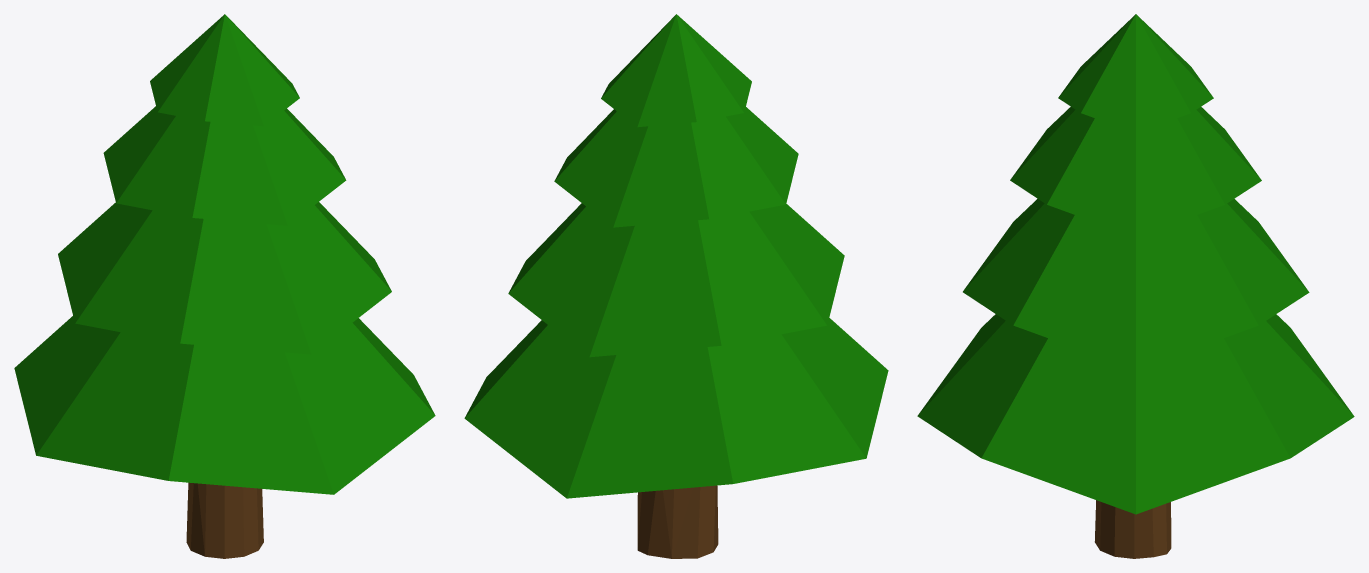
The model's file is christmas-tree.glb.
3 views of the same model, side by side, from view 1: azimuth 30°, elevation 25°; view 2: azimuth 150°, elevation 25°; view 3: azimuth 270°, elevation 25° (orthographic).
Parts seen in each view (by area): view 1: Cone.029, Cone.030, Cone.031, Cone.032, Cylinder.012; view 2: Cone.029, Cone.030, Cone.031, Cone.032, Cylinder.012; view 3: Cone.029, Cone.030, Cone.031, Cone.032, Cylinder.012.
Part boxes in pixels (<box>): Cone.029: <box>14,316,435,494</box>; Cone.030: <box>58,202,391,354</box>; Cone.031: <box>103,106,346,225</box>; Cone.032: <box>150,14,299,126</box>; Cylinder.012: <box>186,482,263,558</box>; Cone.029: <box>464,318,888,498</box>; Cone.030: <box>508,203,844,357</box>; Cone.031: <box>554,107,798,227</box>; Cone.032: <box>601,14,751,127</box>; Cylinder.012: <box>637,485,718,558</box>; Cone.029: <box>917,314,1354,514</box>; Cone.030: <box>963,198,1309,369</box>; Cone.031: <box>1010,107,1261,236</box>; Cone.032: <box>1058,14,1213,132</box>; Cylinder.012: <box>1094,500,1171,558</box>.
Bounding box in the file's own units: 2.39 × 3.19 × 2.39.
